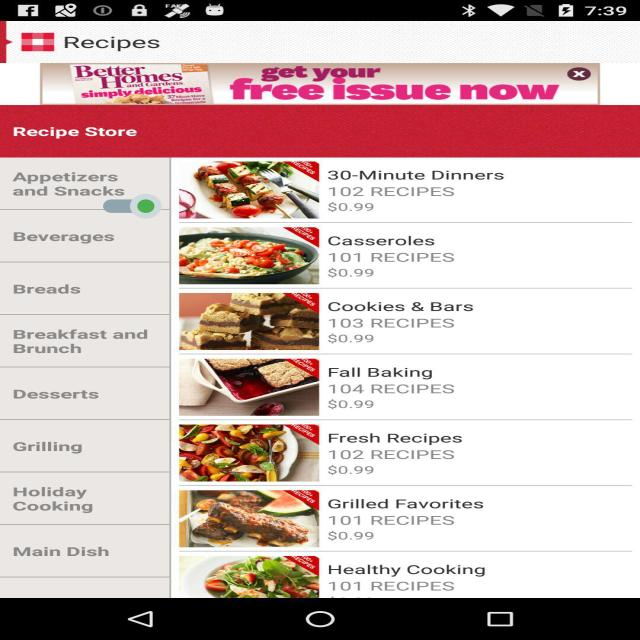social proof: (103, 183, 162, 229)
